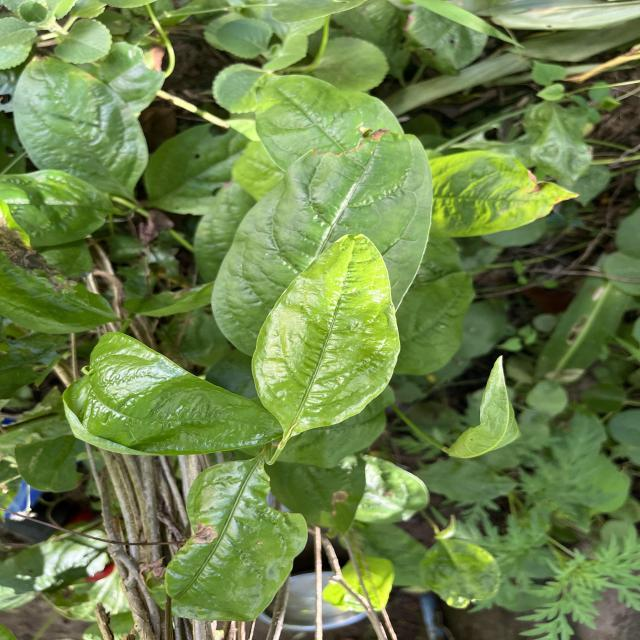Plumbago indica: (250, 230, 403, 430), (59, 328, 283, 461), (162, 456, 310, 620), (11, 53, 150, 195)
